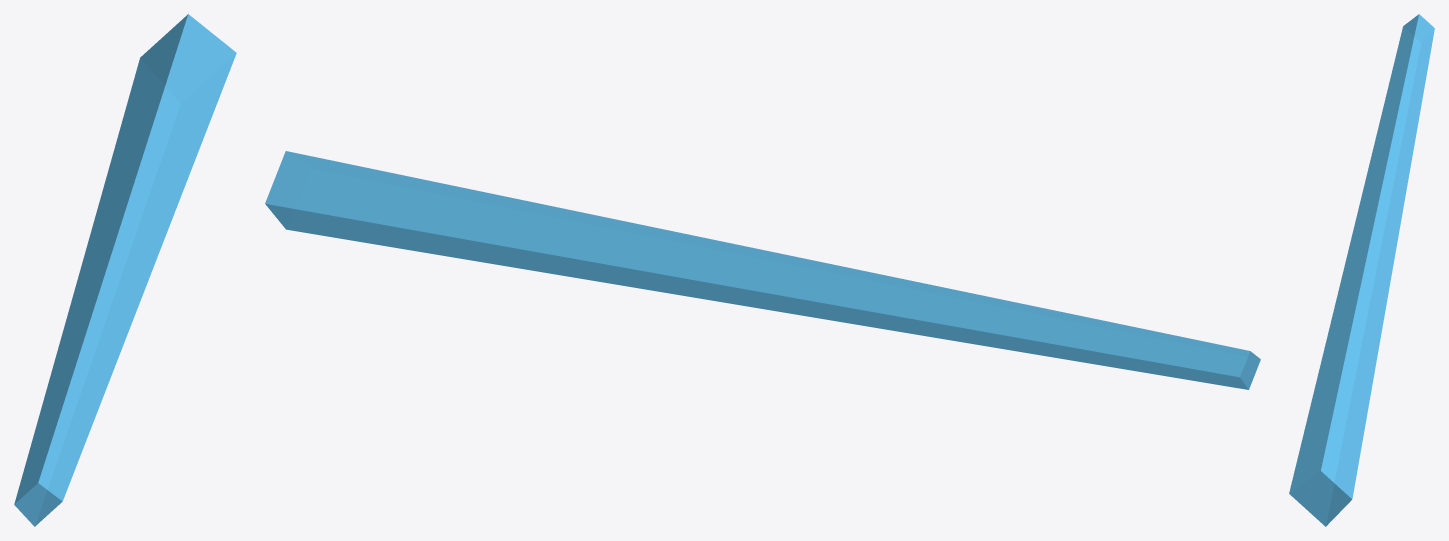
The model's file is Event_420094457_HErechit_89.fbx.
The picture shows the model from 3 angles, left to right: view 1: azimuth 90°, elevation 25°; view 2: azimuth 150°, elevation 25°; view 3: azimuth 270°, elevation 25°; orthographic projection. The views are drawn at different scales.
Visible parts, largest first — view 1: Model; view 2: Model; view 3: Model.
Boxes of the visible parts, x1,y1,x2,y2 form: Model: (14, 14, 236, 526); Model: (265, 151, 1260, 389); Model: (1289, 14, 1434, 526).
Bounding box in the file's own units: 11.13 × 1.8 × 1.8.
